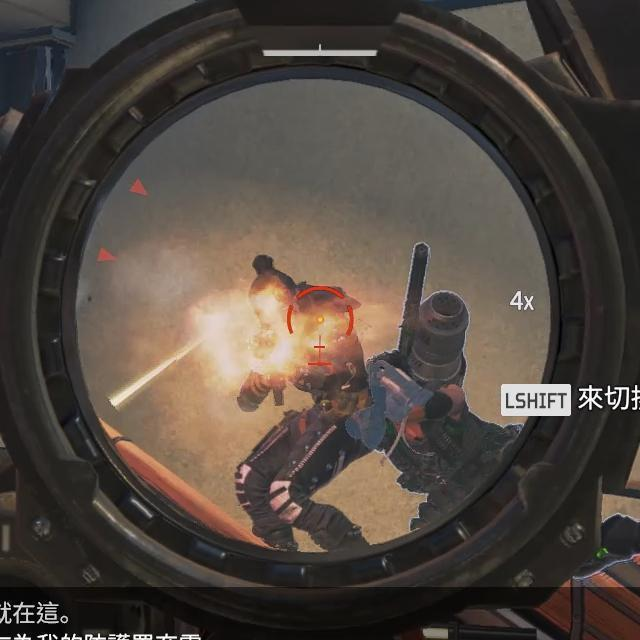avatar: (230, 252, 378, 553)
